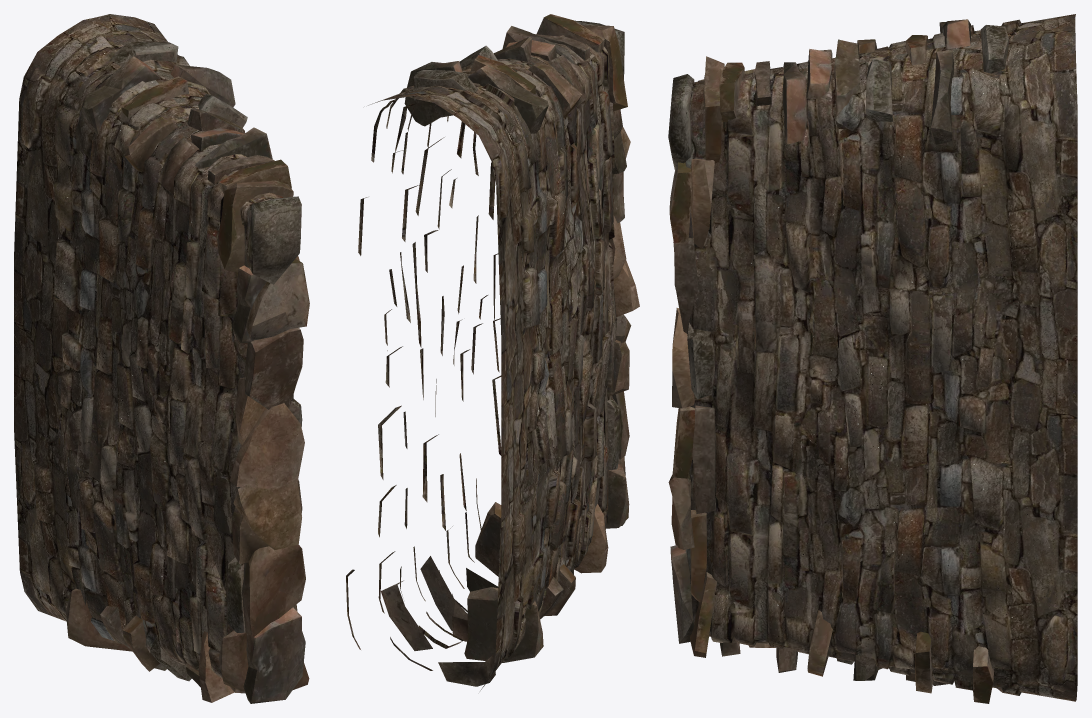
File: CEL_PRO_StoneBroch_Wall_A_4M_01B_LOD0-transformed.glb
3 renders of one model, left to right at view 1: azimuth 30°, elevation 25°; view 2: azimuth 150°, elevation 25°; view 3: azimuth 270°, elevation 25°, orthographic. The views are drawn at different scales.
Visible parts, largest first — view 1: CEL_PRO_StoneBroch_Wall_A_4M_01B_LOD0; view 2: CEL_PRO_StoneBroch_Wall_A_4M_01B_LOD0; view 3: CEL_PRO_StoneBroch_Wall_A_4M_01B_LOD0.
Part boxes in pixels (x1,y1,x2,y2): CEL_PRO_StoneBroch_Wall_A_4M_01B_LOD0: (14,14,309,703); CEL_PRO_StoneBroch_Wall_A_4M_01B_LOD0: (346,14,639,690); CEL_PRO_StoneBroch_Wall_A_4M_01B_LOD0: (668,14,1077,703).
Bounding box in the file's own units: 0.0145 × 0.051 × 0.0283.
Materials: 2 (2 with a texture image).
